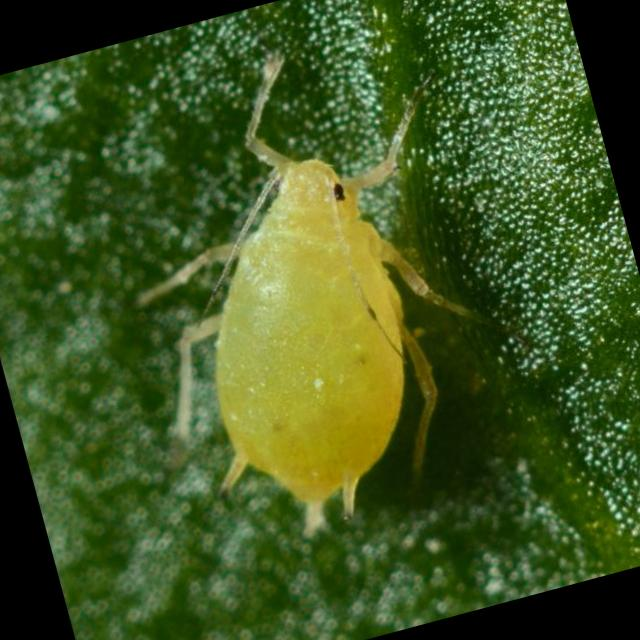aphid: (61, 3, 560, 620)
